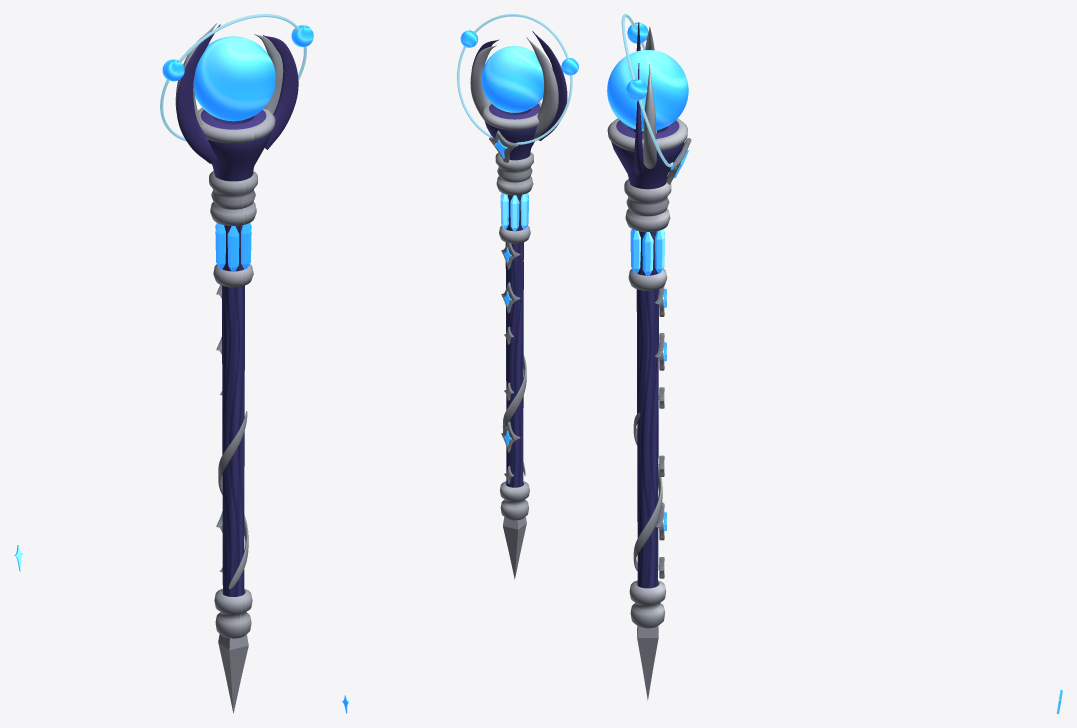
Rendered from arcane_staff.glb.
3 renders of one model, left to right at view 1: azimuth 30°, elevation 25°; view 2: azimuth 150°, elevation 25°; view 3: azimuth 270°, elevation 25°, orthographic. The views are drawn at different scales.
Visible parts, largest first — view 1: Silver_Trim, Shaft, Head_Cup, Orb, Gems, Spiral, Orbit_Ring; view 2: Silver_Trim, Shaft, Orb, Head_Cup, Gems, Orbit_Ring, Spiral; view 3: Silver_Trim, Shaft, Orb, Head_Cup, Gems, Spiral.
Part boxes in pixels (x1,y1,x2,y2): Silver_Trim: (175, 23, 283, 713); Shaft: (222, 225, 244, 596); Head_Cup: (176, 24, 298, 181); Orb: (194, 36, 275, 121); Gems: (14, 223, 251, 571); Spiral: (218, 411, 248, 589); Orbit_Ring: (160, 14, 306, 141); Silver_Trim: (470, 37, 558, 579); Shaft: (505, 195, 523, 487); Orb: (481, 46, 543, 112); Head_Cup: (471, 31, 567, 160); Gems: (342, 140, 528, 713); Orbit_Ring: (457, 14, 572, 144); Spiral: (502, 354, 526, 475); Silver_Trim: (607, 26, 691, 700); Shaft: (636, 231, 658, 588); Orb: (607, 50, 688, 130); Head_Cup: (611, 22, 684, 189); Gems: (630, 150, 1062, 713); Spiral: (633, 412, 662, 570).
Size of the model in its own units: 0.2915 by 1.36 by 0.8109.
